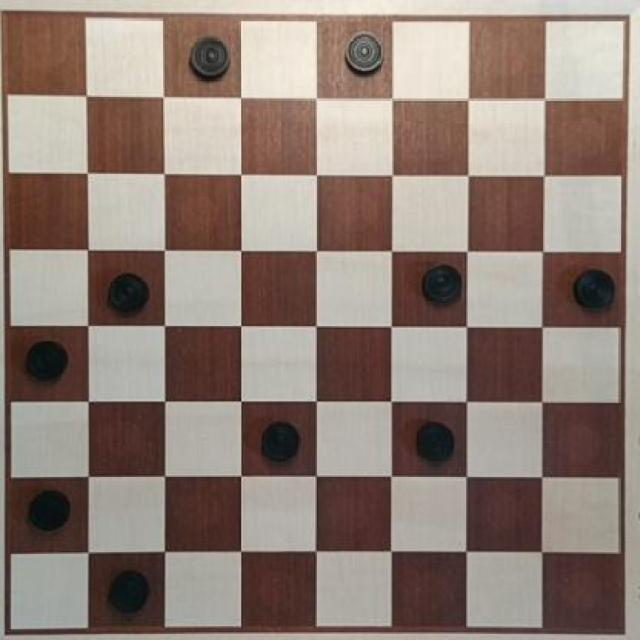BOARD: (7, 18, 629, 633)
black: (400, 408, 468, 474), (399, 253, 472, 313), (556, 256, 620, 316), (15, 480, 80, 539), (254, 402, 308, 470), (16, 331, 77, 391), (179, 23, 236, 84), (98, 556, 156, 614), (96, 264, 156, 318), (330, 24, 386, 77)
